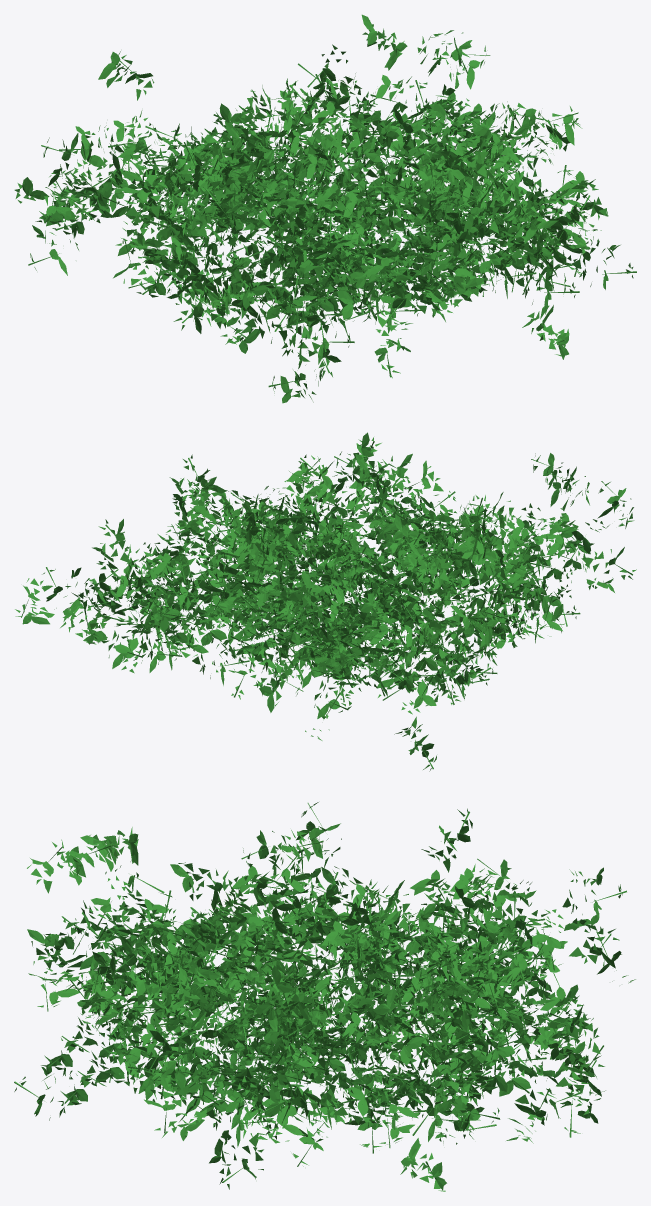
Rendered from planta.fbx.
The picture shows the model from 3 angles, top to bottom: view 1: azimuth 30°, elevation 25°; view 2: azimuth 150°, elevation 25°; view 3: azimuth 270°, elevation 25°; orthographic projection. The views are drawn at different scales.
Visible parts, largest first — view 1: Plane.008; view 2: Plane.008; view 3: Plane.008.
Boxes of the visible parts, x1,y1,x2,y2 form: Plane.008: [14, 14, 636, 403]; Plane.008: [15, 432, 636, 771]; Plane.008: [14, 802, 635, 1191].
Size of the model in its own units: 2.54 by 0.8938 by 2.47.
